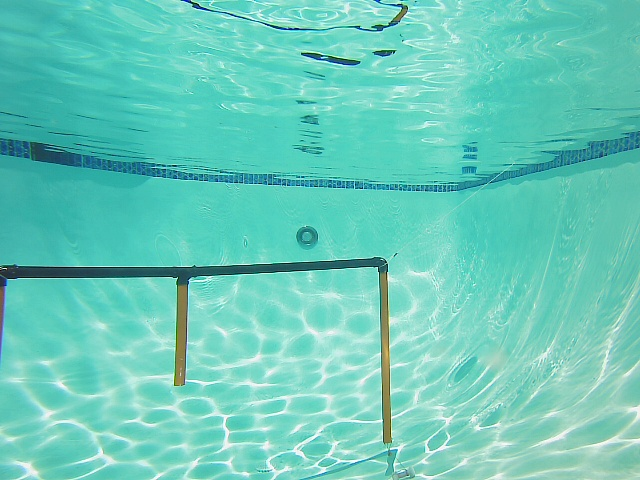Gate: (375, 269, 393, 443), (169, 278, 192, 390), (1, 280, 7, 364)
